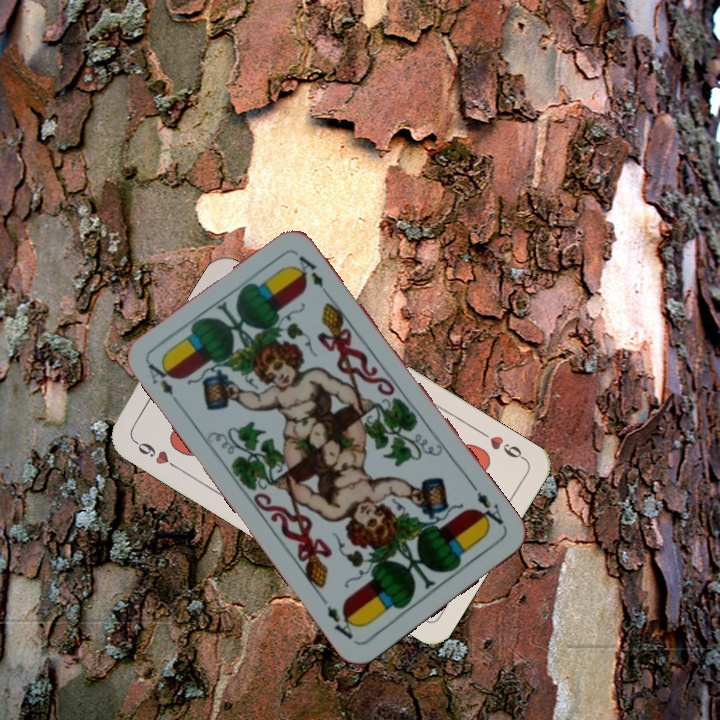EA: (468, 481, 507, 530), (144, 356, 178, 398)
H9: (129, 434, 182, 472), (475, 426, 528, 463)
